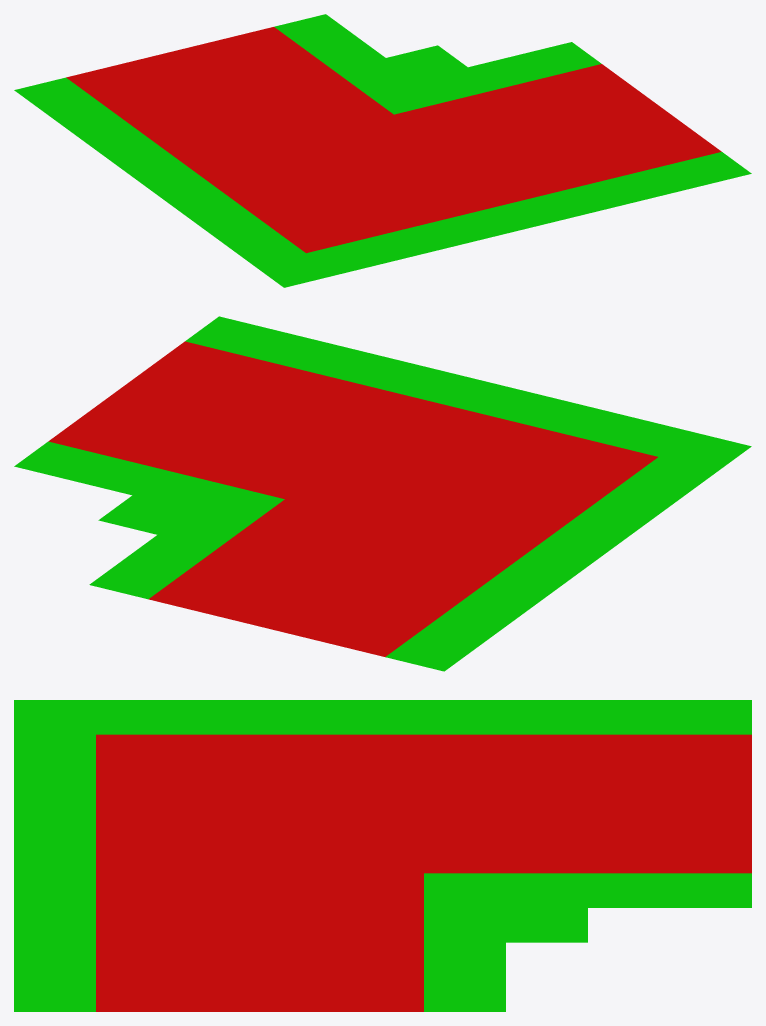
File: Corner_floor.fbx
The picture shows the model from 3 angles, top to bottom: view 1: azimuth 30°, elevation 25°; view 2: azimuth 150°, elevation 25°; view 3: azimuth 270°, elevation 25°; orthographic projection. The views are drawn at different scales.
Visible parts, largest first — view 1: Corner_Floor; view 2: Corner_Floor; view 3: Corner_Floor.
Part boxes in pixels (x1,y1,x2,y2): Corner_Floor: (14,14,751,287); Corner_Floor: (14,316,751,671); Corner_Floor: (14,700,751,1011).
Size of the model in its own units: 9 by 0 by 9.
